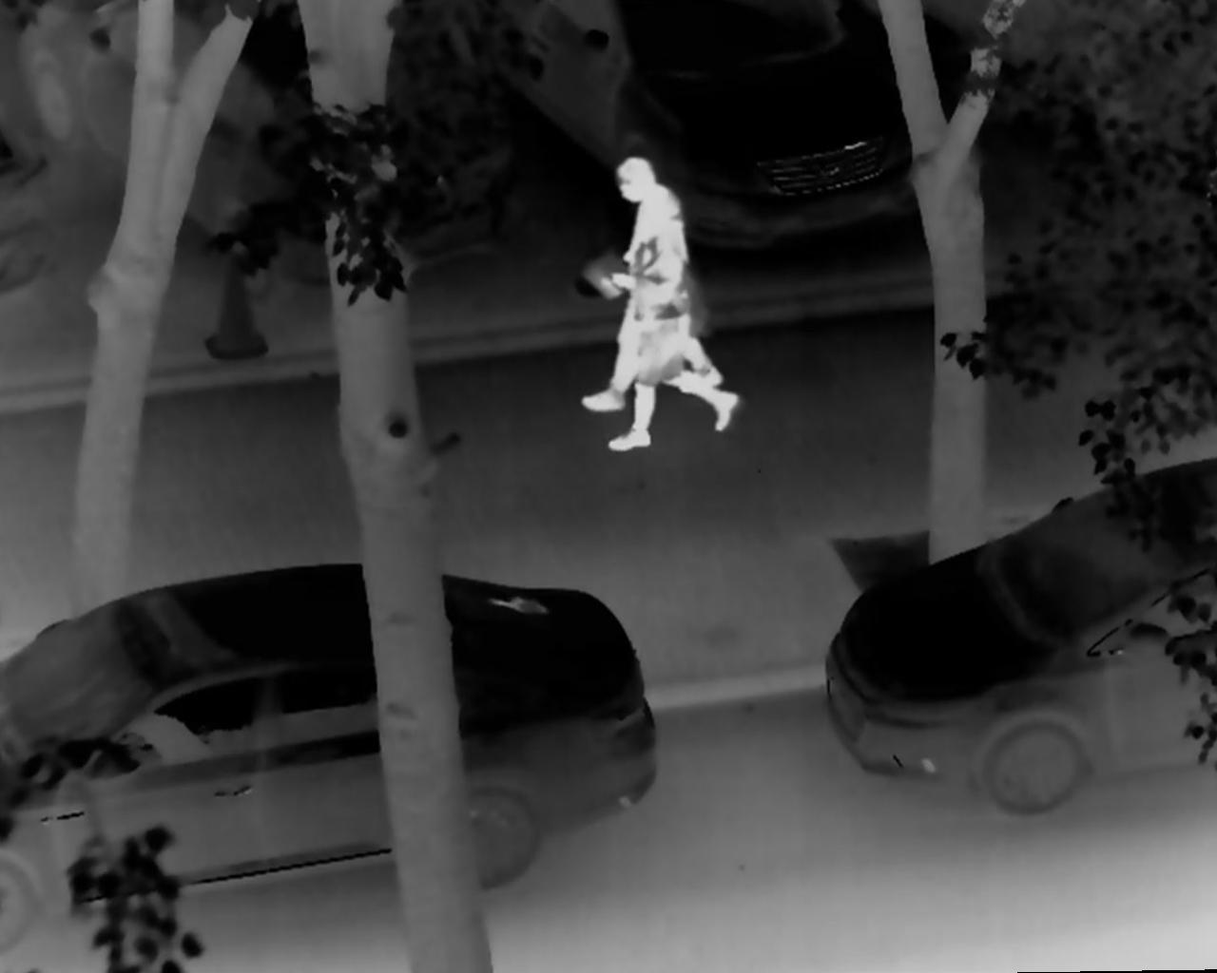person: (573, 155, 721, 414), (601, 196, 736, 457)
